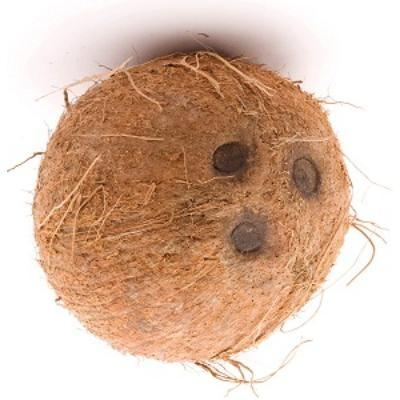coconut: (17, 47, 379, 367)
